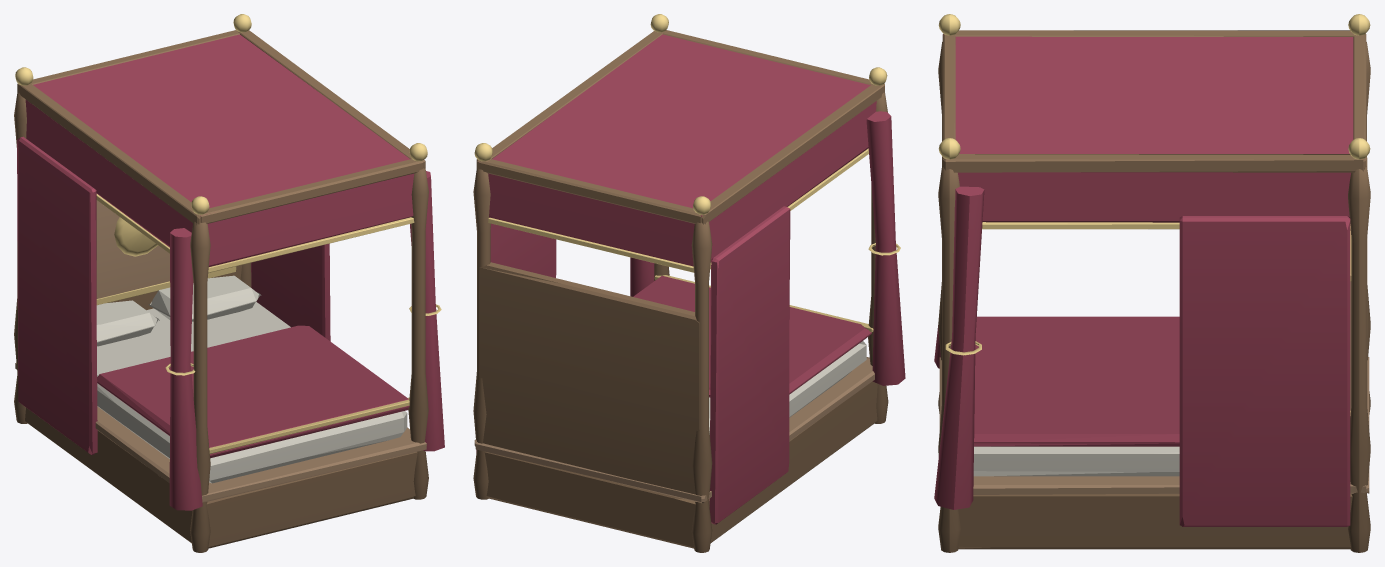
File: kajuete_himmelbett.glb
3 views of the same model, side by side, from view 1: azimuth 30°, elevation 25°; view 2: azimuth 150°, elevation 25°; view 3: azimuth 270°, elevation 25° (orthographic). The views are drawn at different scales.
Parts seen in each view (by area): view 1: G_kajuete_himmelbett; view 2: G_kajuete_himmelbett; view 3: G_kajuete_himmelbett.
Part boxes in pixels (x1,y1,x2,y2): G_kajuete_himmelbett: [14, 14, 444, 552]; G_kajuete_himmelbett: [473, 14, 905, 552]; G_kajuete_himmelbett: [934, 14, 1370, 552].
Size of the model in its own units: 1.82 by 2.25 by 2.17.
